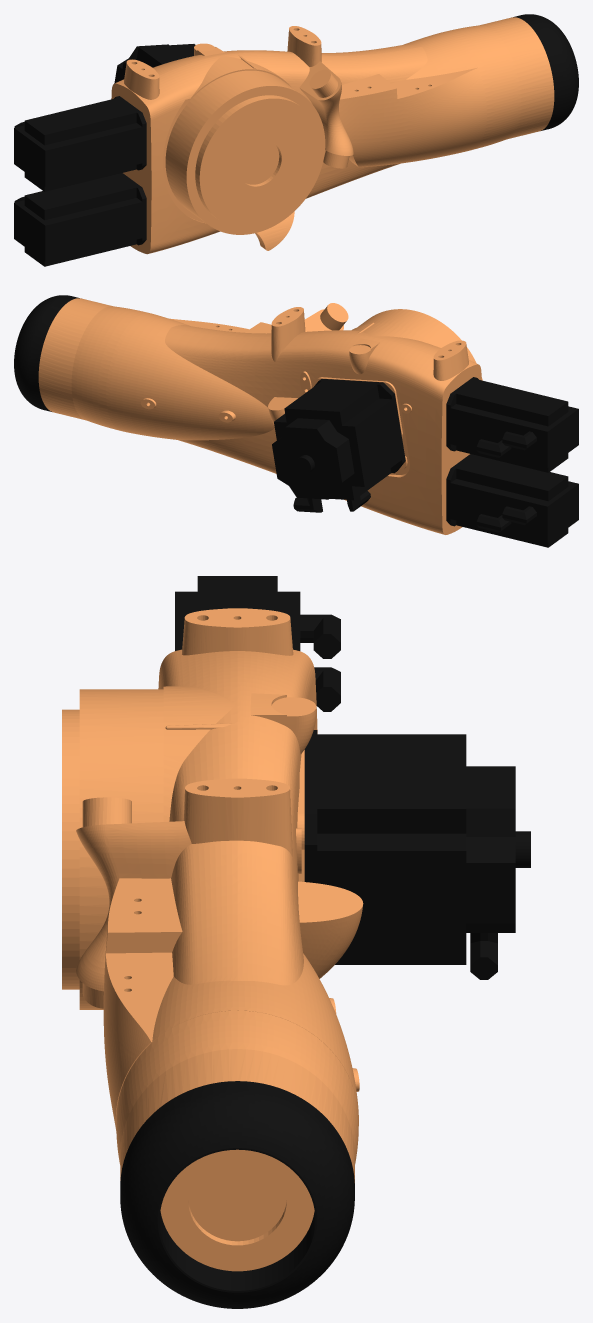
The picture shows the model from 3 angles, top to bottom: view 1: azimuth 30°, elevation 25°; view 2: azimuth 150°, elevation 25°; view 3: azimuth 270°, elevation 25°; orthographic projection. The views are drawn at different scales.
Parts seen in each view (by area): view 1: Link_3, Link_3_Motor1, Link_3_Motor2, Link_3_Motor3, Link_3_Motor4; view 2: Link_3, Link_3_Motor4, Link_3_Motor1, Link_3_Motor2, Link_3_Motor3; view 3: Link_3, Link_3_Motor4, Link_3_Motor3, Link_3_Motor1.
Boxes of the visible parts, x1,y1,x2,y2 form: Link_3: (111, 17, 554, 254); Link_3_Motor1: (14, 96, 146, 191); Link_3_Motor2: (14, 173, 146, 266); Link_3_Motor3: (513, 14, 578, 130); Link_3_Motor4: (114, 44, 195, 83); Link_3: (38, 298, 482, 534); Link_3_Motor4: (272, 378, 405, 512); Link_3_Motor1: (446, 377, 578, 472); Link_3_Motor2: (446, 454, 578, 547); Link_3_Motor3: (14, 295, 79, 411); Link_3: (62, 608, 363, 1271); Link_3_Motor4: (304, 730, 530, 979); Link_3_Motor3: (120, 1081, 354, 1308); Link_3_Motor1: (175, 576, 340, 711).
Bounding box in the file's own units: 1.24 × 0.4755 × 0.4294.
